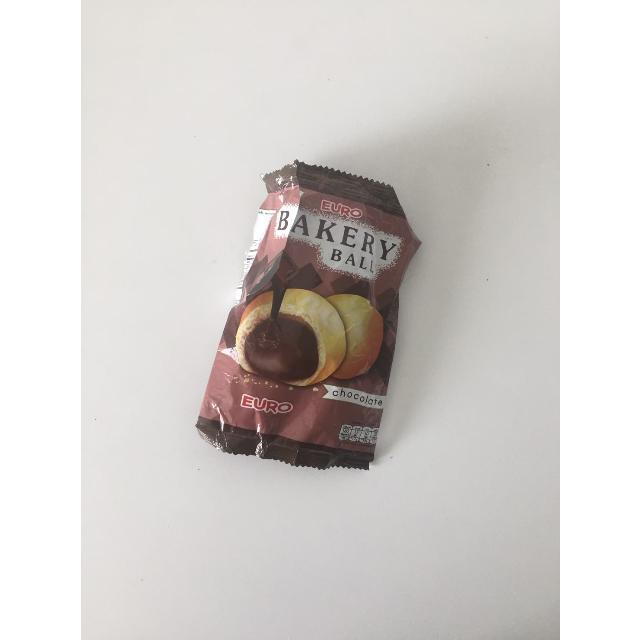Bolsa-de-plastico: (205, 170, 418, 442)
